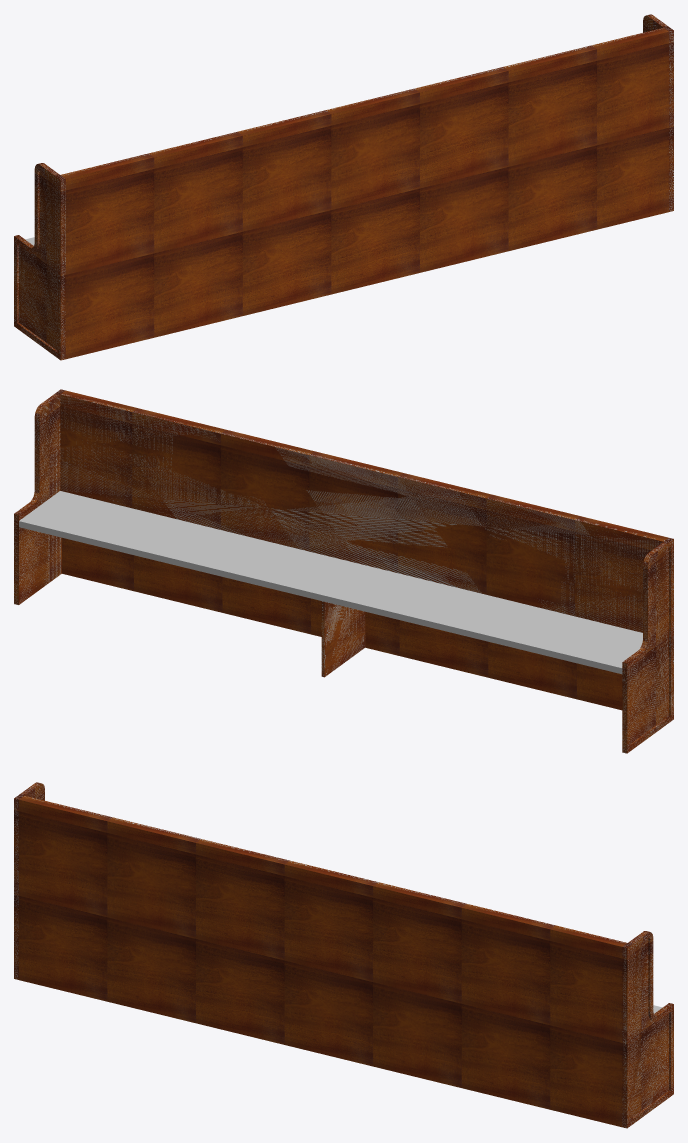
The picture shows the model from 3 angles, top to bottom: view 1: azimuth 30°, elevation 25°; view 2: azimuth 150°, elevation 25°; view 3: azimuth 330°, elevation 25°; orthographic projection.
Visible parts, largest first — view 1: mesh4_mesh4-geometry, mesh1_mesh1-geometry, mesh2_mesh2-geometry; view 2: mesh4_mesh4-geometry, mesh3_mesh3-geometry, mesh1_mesh1-geometry, mesh2_mesh2-geometry; view 3: mesh4_mesh4-geometry, mesh2_mesh2-geometry, mesh1_mesh1-geometry.
Part boxes in pixels (bbox=[...]): mesh4_mesh4-geometry: bbox=[61, 27, 668, 359]; mesh1_mesh1-geometry: bbox=[14, 163, 65, 360]; mesh2_mesh2-geometry: bbox=[643, 14, 673, 211]; mesh4_mesh4-geometry: bbox=[60, 390, 668, 710]; mesh3_mesh3-geometry: bbox=[19, 491, 642, 677]; mesh1_mesh1-geometry: bbox=[622, 538, 673, 753]; mesh2_mesh2-geometry: bbox=[14, 389, 65, 604]; mesh4_mesh4-geometry: bbox=[19, 795, 626, 1127]; mesh2_mesh2-geometry: bbox=[622, 931, 673, 1128]; mesh1_mesh1-geometry: bbox=[14, 782, 44, 979].
Size of the model in its own units: 0.955 by 0.2685 by 0.1263.
